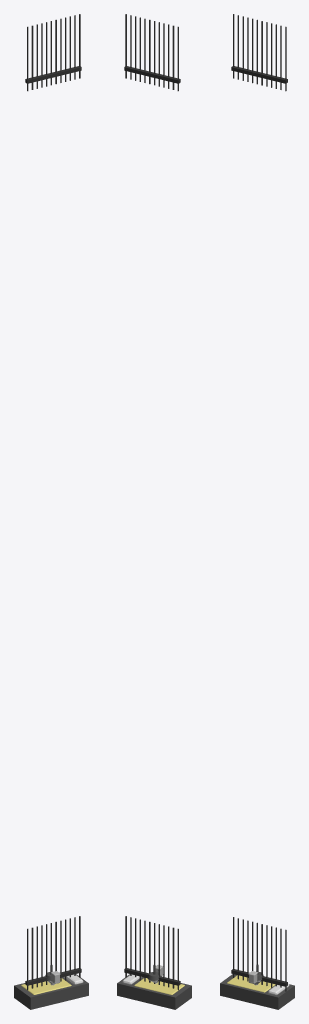
Rendered from Prison.fbx.
3 views of the same model, side by side, from view 1: azimuth 30°, elevation 25°; view 2: azimuth 150°, elevation 25°; view 3: azimuth 330°, elevation 25° (orthographic).
Parts seen in each view (by area): view 1: Bars, Bed, Blanket; view 2: Bars, Bed, Blanket; view 3: Bars, Bed, Blanket.
Part boxes in pixels (x1,y1,x2,y2): Bars: (25, 14, 81, 990); Bed: (14, 974, 88, 1009); Blanket: (21, 978, 71, 994); Bars: (124, 14, 180, 990); Bed: (117, 974, 191, 1009); Blanket: (134, 978, 184, 994); Bars: (231, 14, 287, 991); Bed: (220, 974, 294, 1009); Blanket: (227, 975, 275, 992).
Bounding box in the file's own units: 1244 × 19813 × 605.
